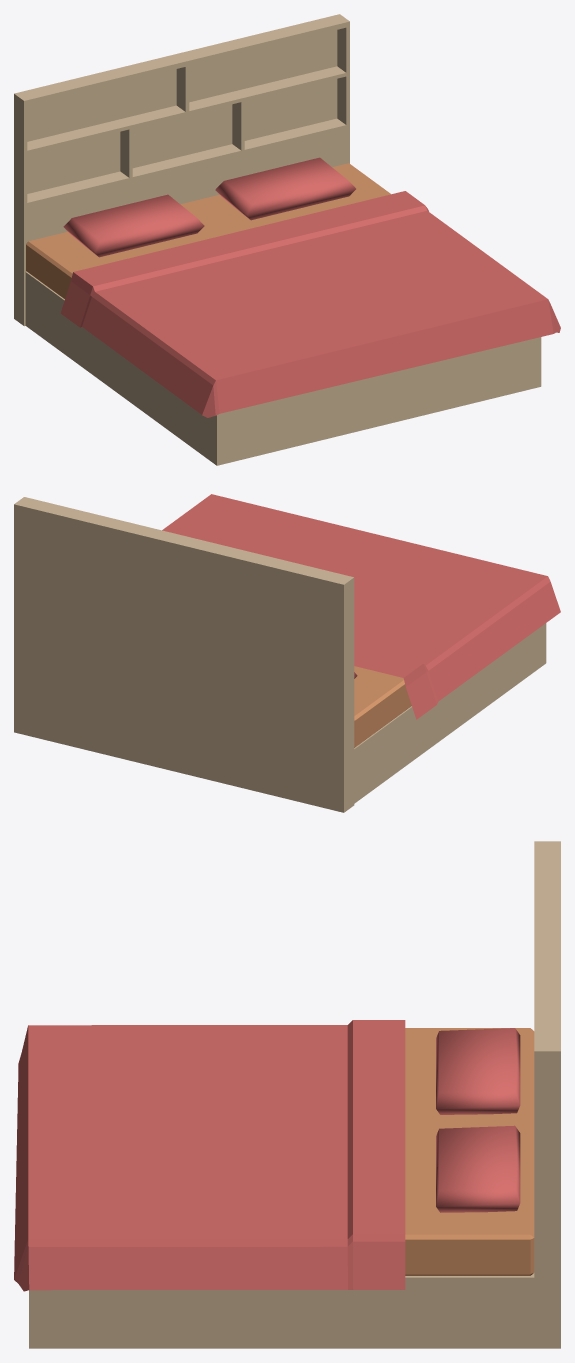
The model's file is lit2.fbx.
3 renders of one model, top to bottom at view 1: azimuth 30°, elevation 25°; view 2: azimuth 150°, elevation 25°; view 3: azimuth 270°, elevation 25°, orthographic. The views are drawn at different scales.
Visible parts, largest first — view 1: LitEtagere; view 2: LitEtagere; view 3: LitEtagere.
Boxes of the visible parts, box(x1,y1,x2,y2) form: LitEtagere: box(14, 14, 560, 465); LitEtagere: box(14, 494, 560, 812); LitEtagere: box(14, 841, 560, 1348).
Bounding box in the file's own units: 500 × 300 × 500.
